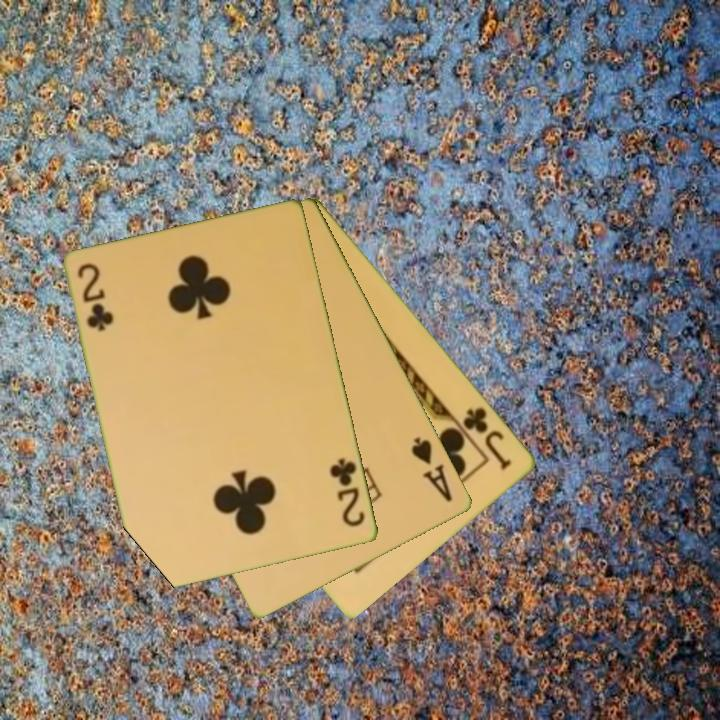2c: (326, 455, 369, 530), (74, 260, 115, 335)
As: (408, 433, 456, 505)
Jc: (460, 403, 515, 473)
